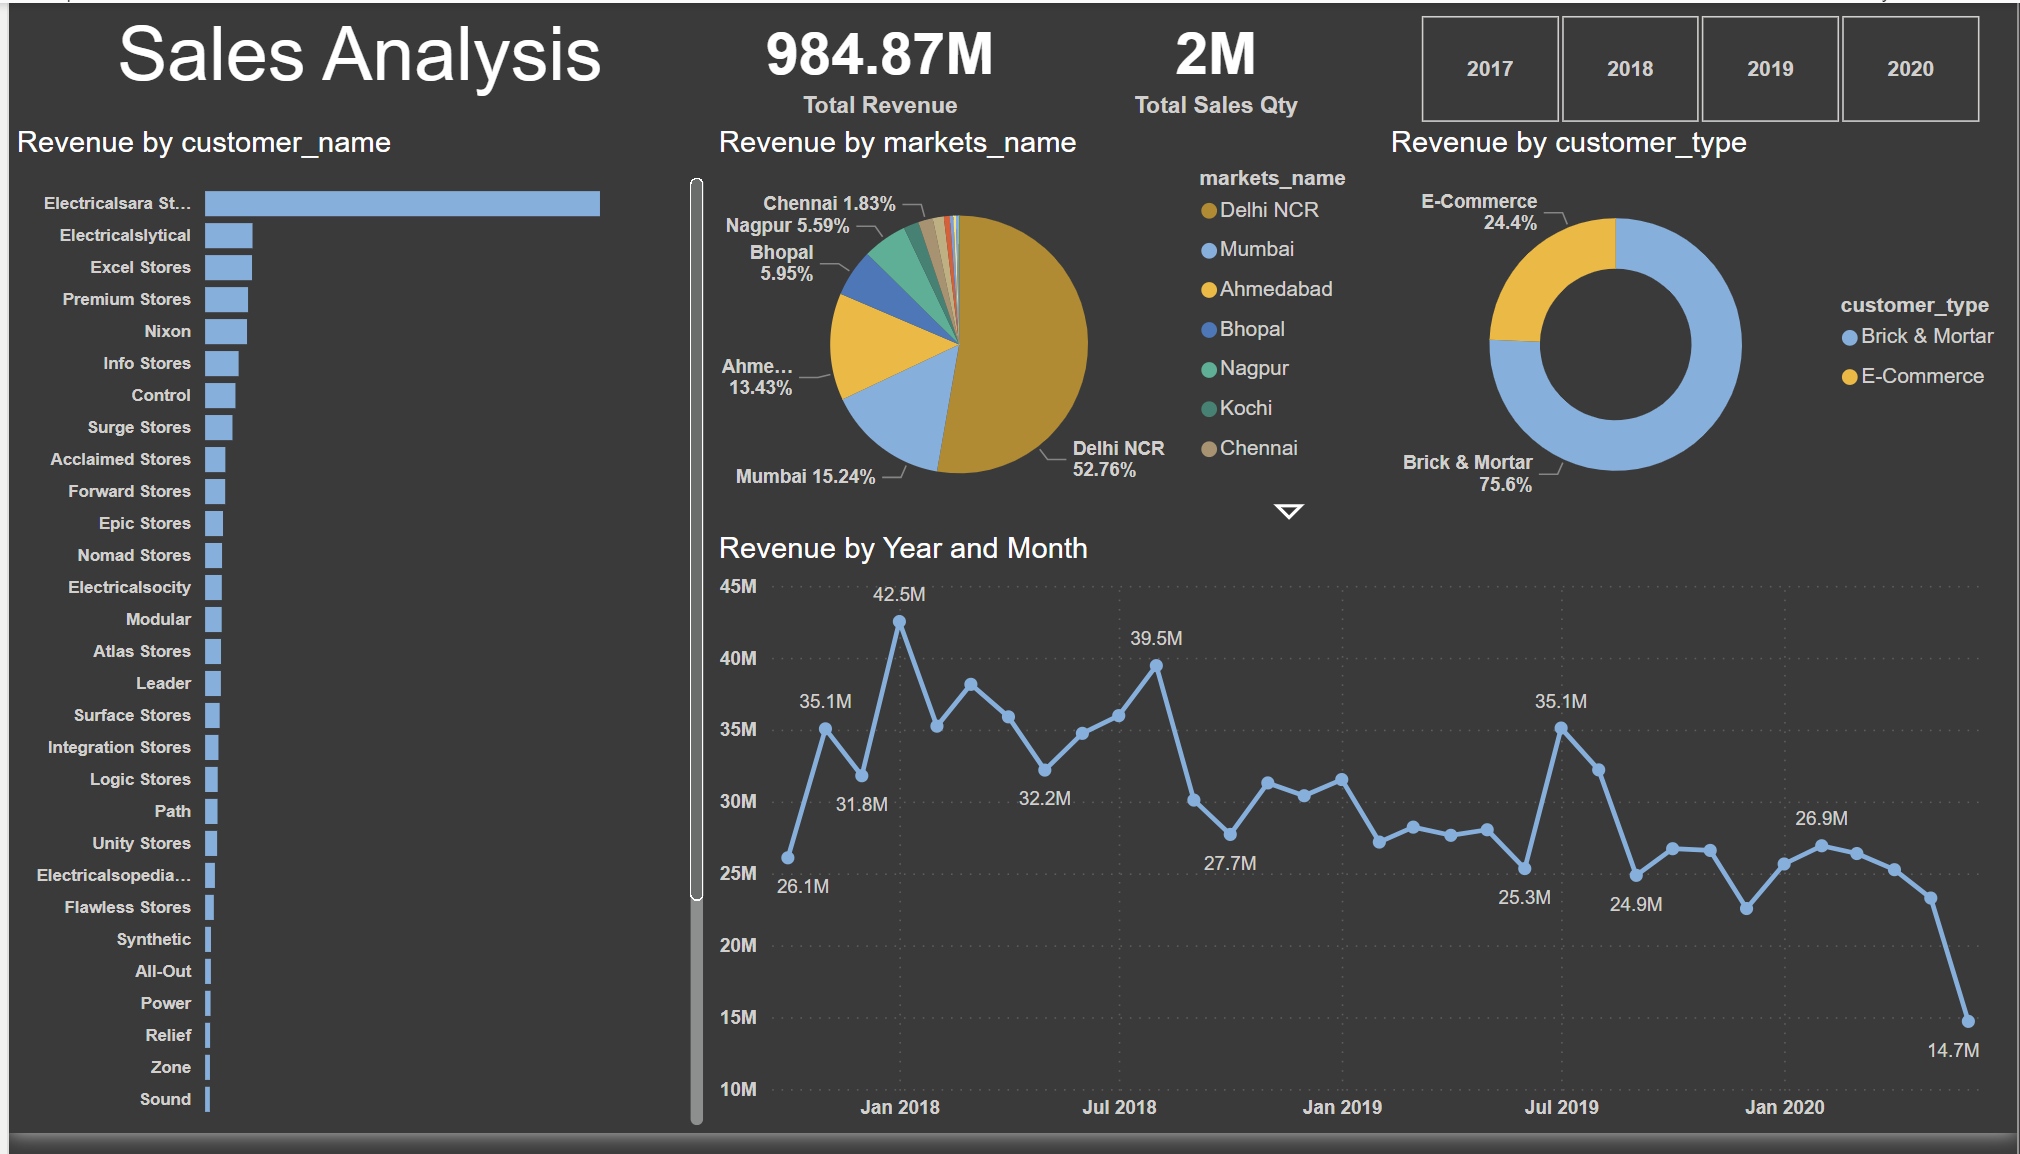

The page's visual inventory and layout, read from the dashboard file:
{"tool":"powerbi","page":{"name":"Page 1","canvas":[1280,720],"ordinal":0},"visuals":[{"type":"textbox","box":[0,0,447.5,77.8],"z":0},{"type":"barChart","fields":{"Y":["BaseMeasures.Revenue"],"Category":["sales customers.custmer_name"]},"box":[0,77.8,447.5,642.5],"z":1},{"type":"card","fields":{"Values":["BaseMeasures.Revenue"]},"box":[447.5,0,215.5,77.8],"z":2},{"type":"card","fields":{"Values":["BaseMeasures.Sales Qty"]},"box":[662.9,0,212.9,77.8],"z":3},{"type":"slicer","fields":{"Values":["sales date.year"]},"box":[874.6,1.3,405.4,81.6],"z":4},{"type":"donutChart","fields":{"Y":["BaseMeasures.Revenue"],"Category":["sales customers.customer_type"]},"box":[875.9,77.8,406.7,258.8],"z":5},{"type":"pieChart","fields":{"Y":["BaseMeasures.Revenue"],"Category":["sales markets.markets_name"]},"box":[447.5,77.8,428.4,258.8],"z":6},{"type":"lineChart","fields":{"Category":["sales date.date.Variation.Date Hierarchy.Year","sales date.date.Variation.Date Hierarchy.Month"],"Y":["BaseMeasures.Revenue"]},"box":[447.5,336.6,832.5,383.7],"z":7}]}

Visuals, with their boxes in screenshot pixels (x1, y1, x2, y2), scaled from the page's 1280x720 canvas onto the 2020x1154 screenshot:
textbox: {"x1": 0, "y1": 0, "x2": 706, "y2": 125}
barChart - BaseMeasures.Revenue x sales customers.custmer_name: {"x1": 0, "y1": 125, "x2": 706, "y2": 1153}
card - BaseMeasures.Revenue: {"x1": 706, "y1": 0, "x2": 1046, "y2": 125}
card - BaseMeasures.Sales Qty: {"x1": 1046, "y1": 0, "x2": 1382, "y2": 125}
slicer - sales date.year: {"x1": 1380, "y1": 2, "x2": 2019, "y2": 133}
donutChart - BaseMeasures.Revenue x sales customers.customer_type: {"x1": 1382, "y1": 125, "x2": 2019, "y2": 539}
pieChart - BaseMeasures.Revenue x sales markets.markets_name: {"x1": 706, "y1": 125, "x2": 1382, "y2": 539}
lineChart - sales date.date.Variation.Date Hierarchy.Year x sales date.date.Variation.Date Hierarchy.Month: {"x1": 706, "y1": 539, "x2": 2019, "y2": 1153}
